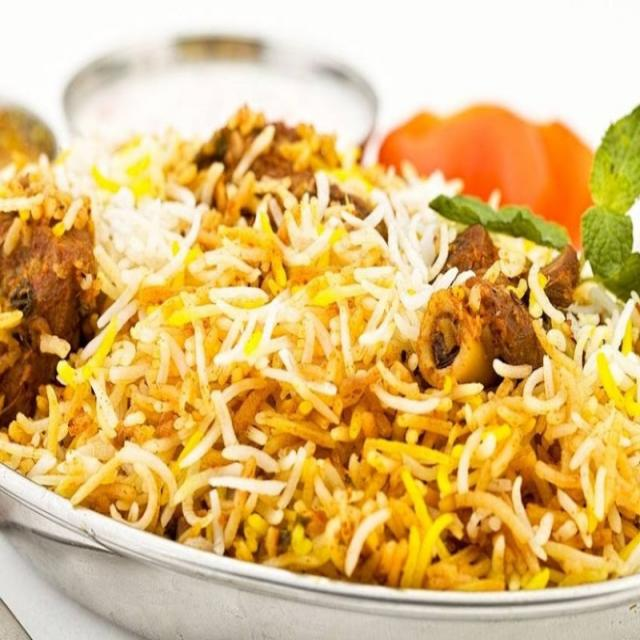Biryani: (2, 111, 639, 639)
